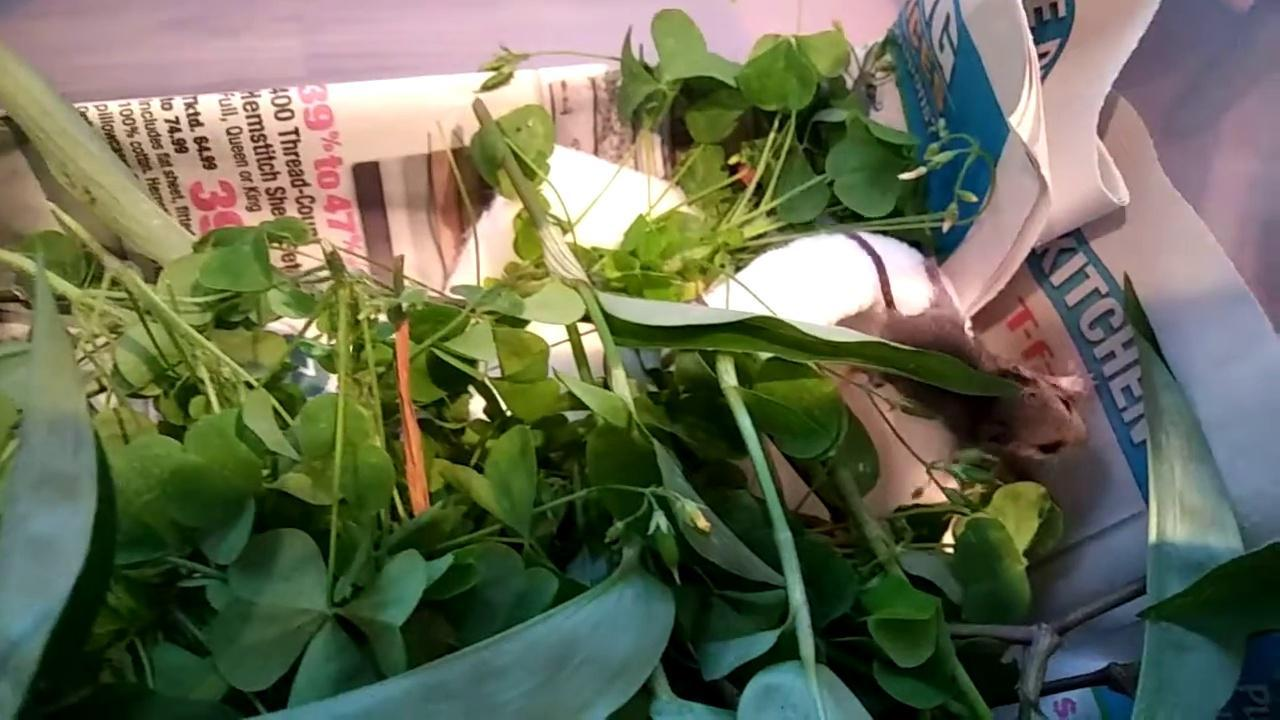rat: (818, 221, 1094, 465)
